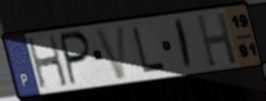H: (194, 10, 239, 69), (25, 33, 70, 91)
I: (174, 17, 194, 72)
L: (130, 25, 167, 74)
P: (59, 29, 94, 88)
V: (93, 23, 128, 82)
